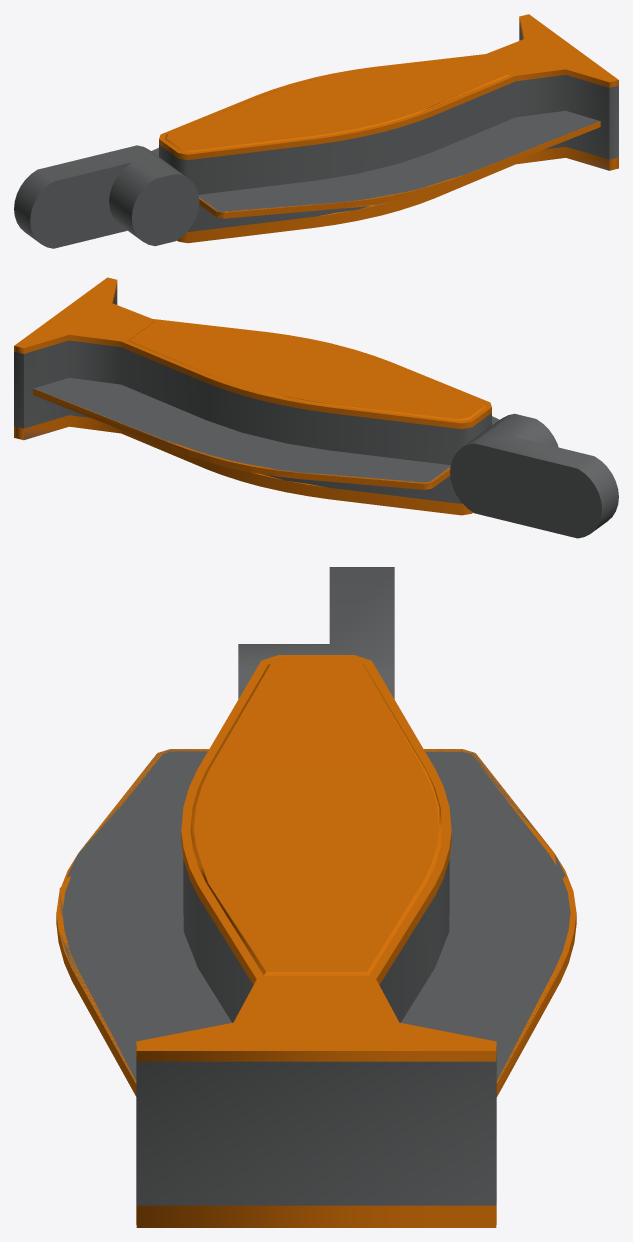
File: claw_guide2a.fbx
3 views of the same model, one above another, from view 1: azimuth 30°, elevation 25°; view 2: azimuth 150°, elevation 25°; view 3: azimuth 270°, elevation 25° (orthographic). The views are drawn at different scales.
Visible parts, largest first — view 1: claw_guide2a_LOD0, claw_guide2a_col; view 2: claw_guide2a_LOD0, claw_guide2a_col; view 3: claw_guide2a_LOD0, claw_guide2a_col.
Part boxes in pixels (<box>): claw_guide2a_LOD0: <box>14,14,618,248</box>; claw_guide2a_col: <box>33,14,618,248</box>; claw_guide2a_LOD0: <box>14,277,618,538</box>; claw_guide2a_col: <box>14,278,598,537</box>; claw_guide2a_LOD0: <box>56,567,576,1227</box>; claw_guide2a_col: <box>59,655,574,1205</box>.
Size of what is drawn, in the model's own units: 95.99 by 15.2 by 40.
